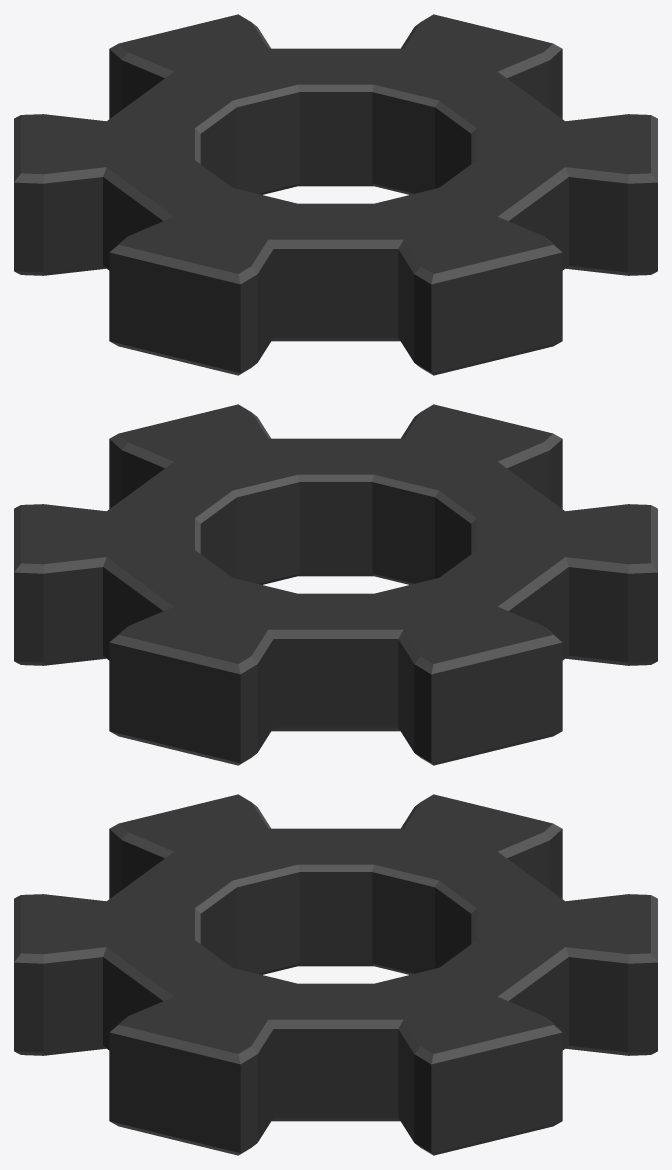
File: gear.fbx
The picture shows the model from 3 angles, top to bottom: view 1: azimuth 30°, elevation 25°; view 2: azimuth 150°, elevation 25°; view 3: azimuth 270°, elevation 25°; orthographic projection.
Visible parts, largest first — view 1: Gear; view 2: Gear; view 3: Gear.
Part boxes in pixels (x1,y1,x2,y2): Gear: (14,14,657,375); Gear: (14,404,657,765); Gear: (14,794,657,1155).
Size of the model in its own units: 68.34 by 12.1 by 69.48.
